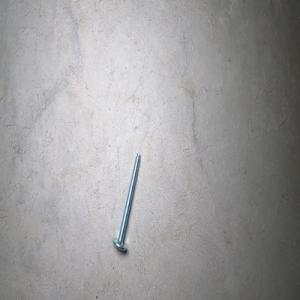Bolt: (111, 151, 141, 251)
